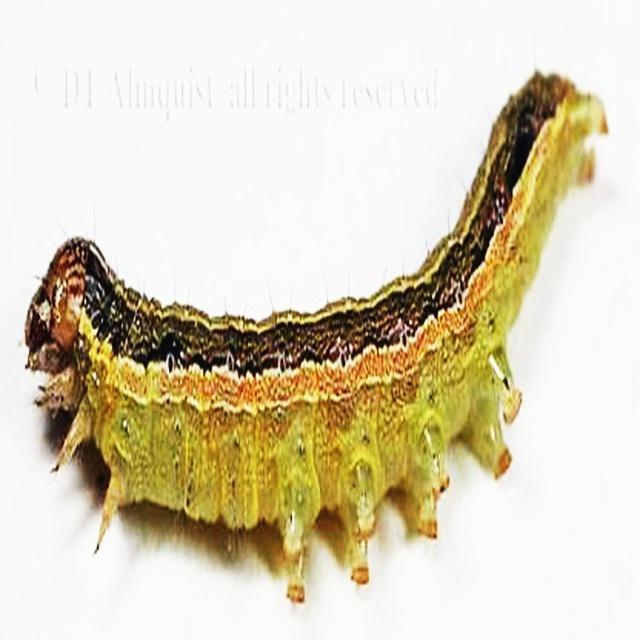gusano_cogollero: (22, 64, 614, 604)
